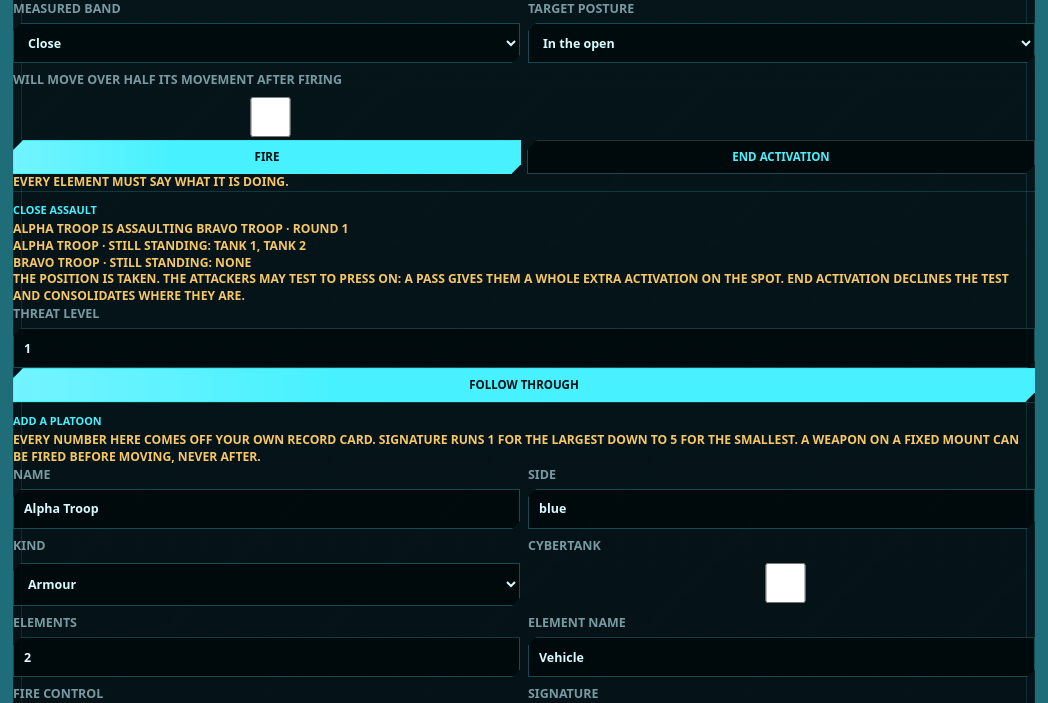
Dirtside close assault › follows through with a threat, and says that ending the activation declines it
(page scrolled)
Expected: the text "End Activation declines" is shown, [13,270,1009,304]
Step 1. Replace the text in the number field labelled "Threat level" with "2" → [524, 348], box [13,328,1035,368]
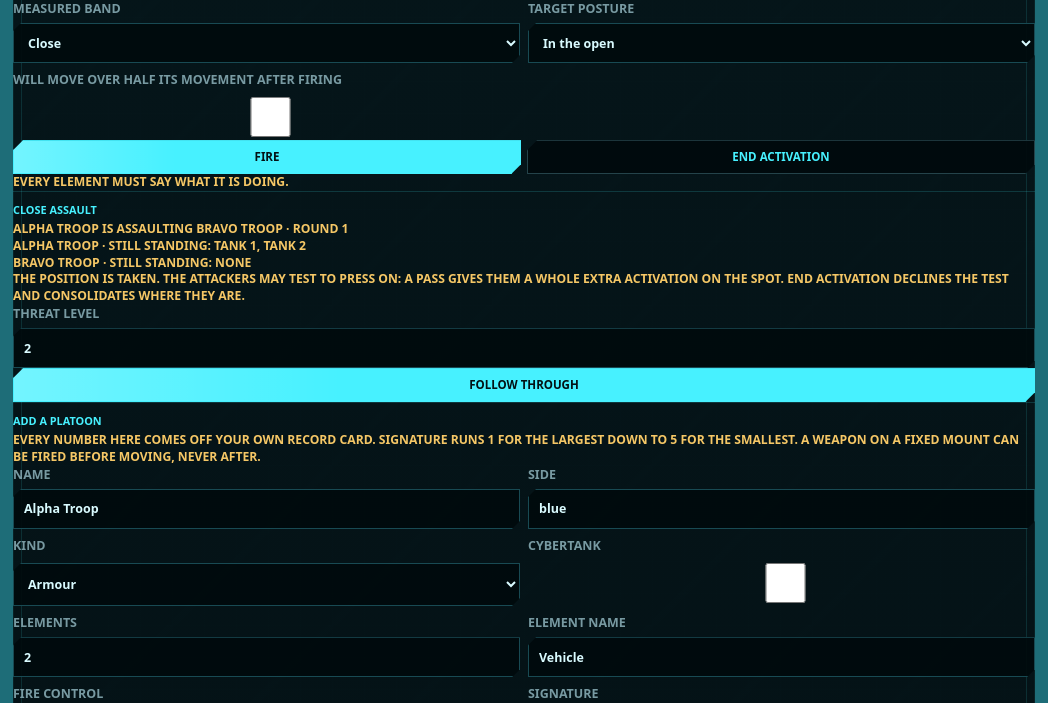
Step 2. Click the button "Follow Through" → [524, 385], box [13,368,1035,402]
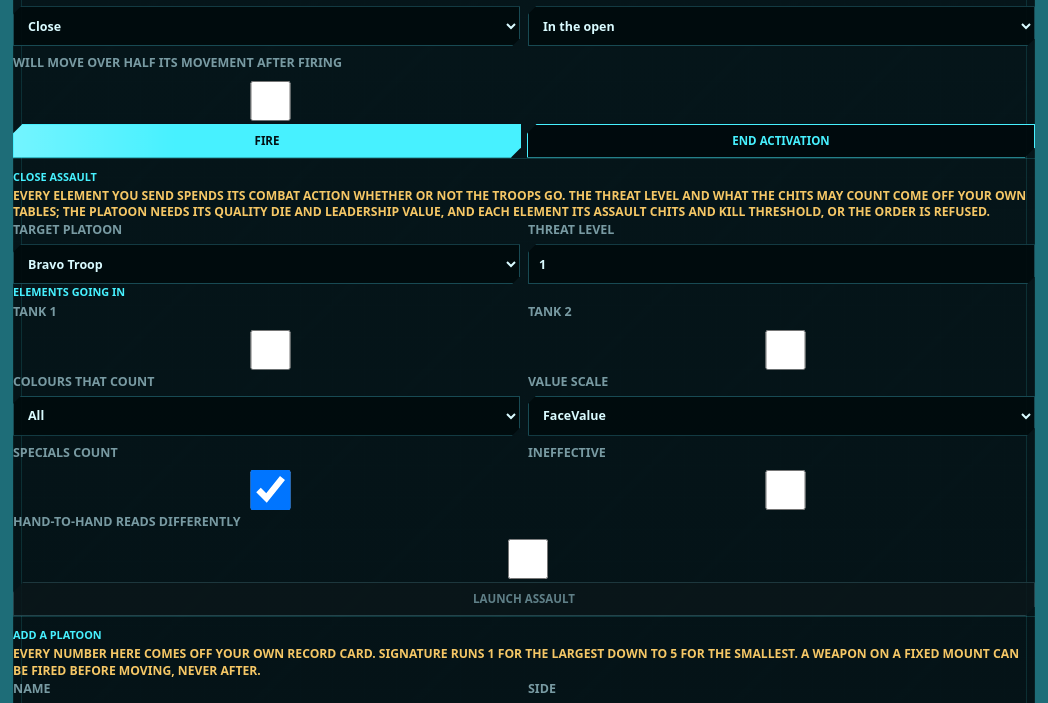
Now the button "Launch Assault" is shown, box [13,582,1035,616]
